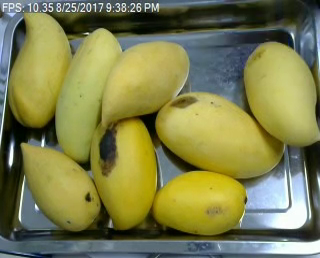Mango: (151, 85, 291, 180), (239, 31, 320, 151), (51, 27, 119, 163), (98, 33, 191, 127), (89, 109, 160, 231), (11, 140, 104, 232), (144, 165, 256, 235), (6, 7, 70, 127)
